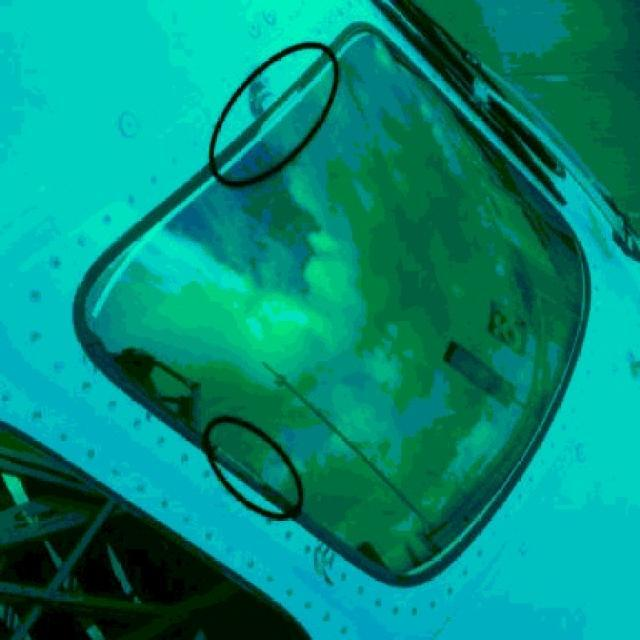crack: (314, 540, 337, 588)
